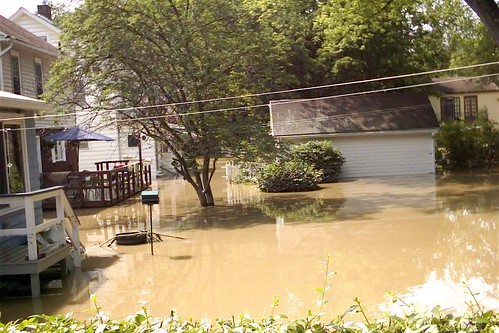building: (271, 77, 437, 189), (1, 6, 97, 199)
tree: (49, 1, 274, 206)
